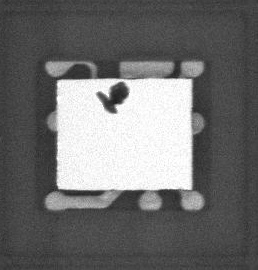DIE_INK: (91, 84, 123, 119)
